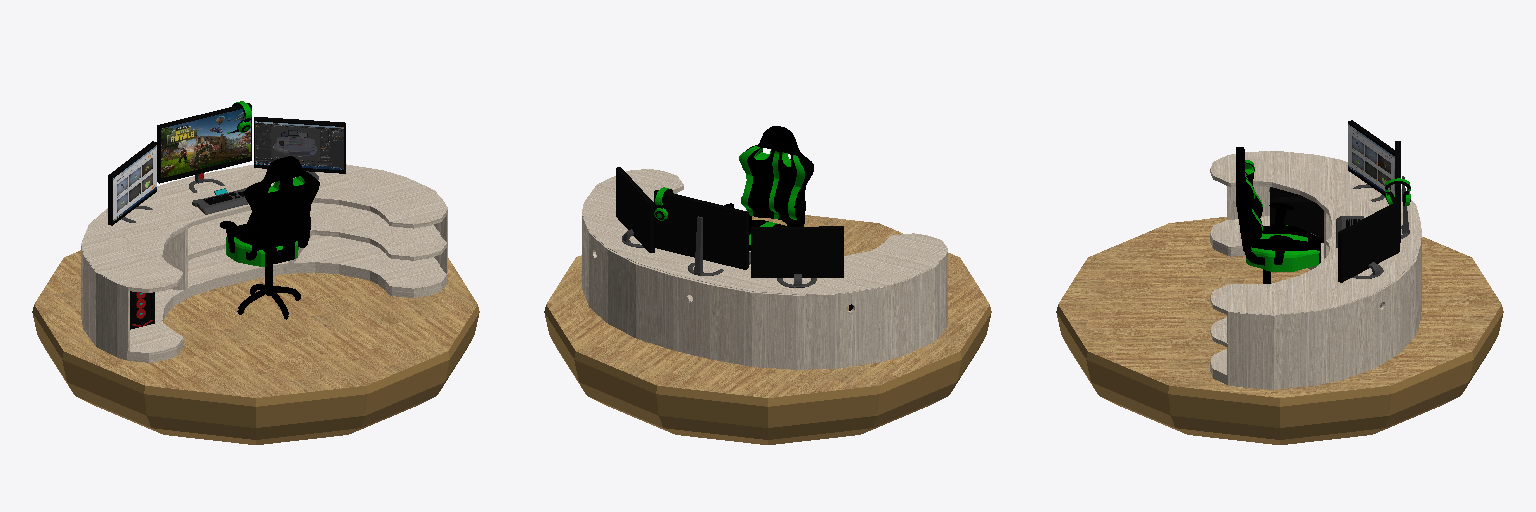
3 renders of one model, left to right at view 1: azimuth 30°, elevation 25°; view 2: azimuth 150°, elevation 25°; view 3: azimuth 270°, elevation 25°, orthographic.
Parts seen in each view (by area): view 1: desk; view 2: desk; view 3: desk.
Boxes of the visible parts, x1=… form: desk: x1=32, y1=101, x2=479, y2=444; desk: x1=544, y1=126, x2=991, y2=444; desk: x1=1056, y1=120, x2=1503, y2=444.
Bounding box in the file's own units: 31.24 × 17.15 × 31.24.
15 materials, 5 textured.